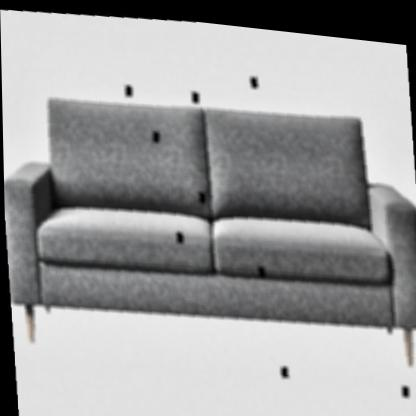Sofa: (2, 85, 414, 332)
